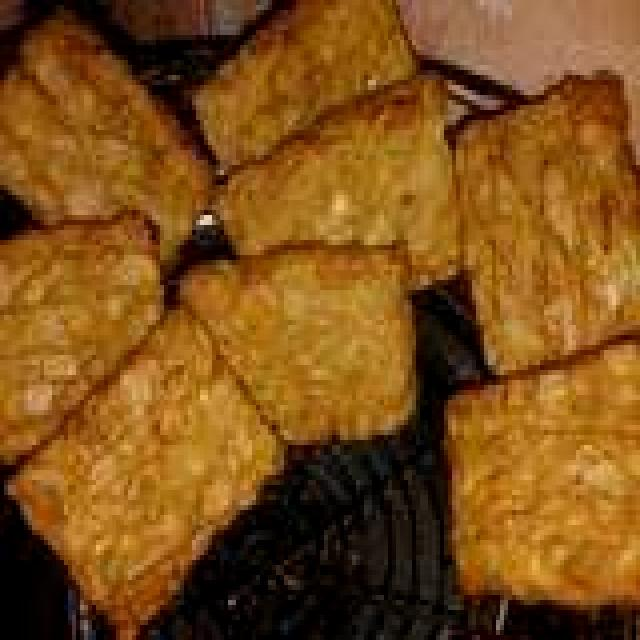tempe goreng: (12, 331, 306, 626), (207, 53, 470, 295), (158, 226, 428, 456), (433, 331, 640, 626), (447, 66, 636, 372)
